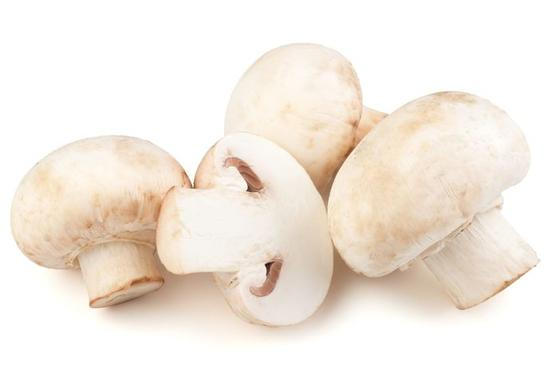champignon: (329, 86, 539, 310), (8, 127, 195, 309)
